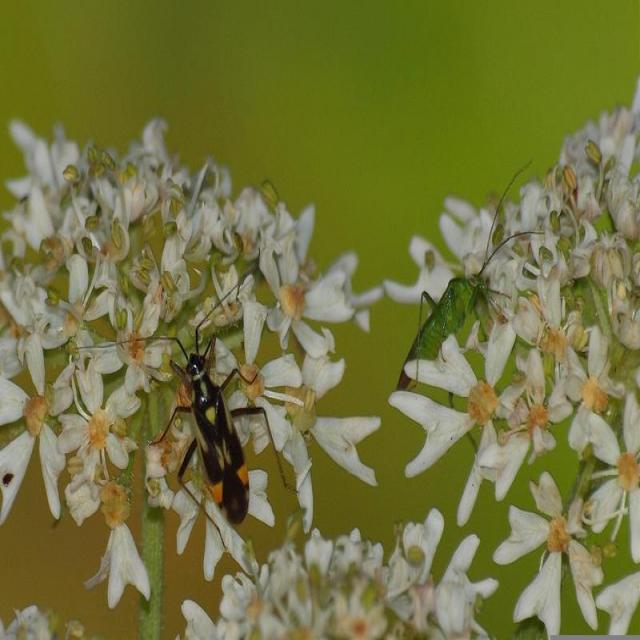Miridae-Adult-: (72, 259, 292, 566)
